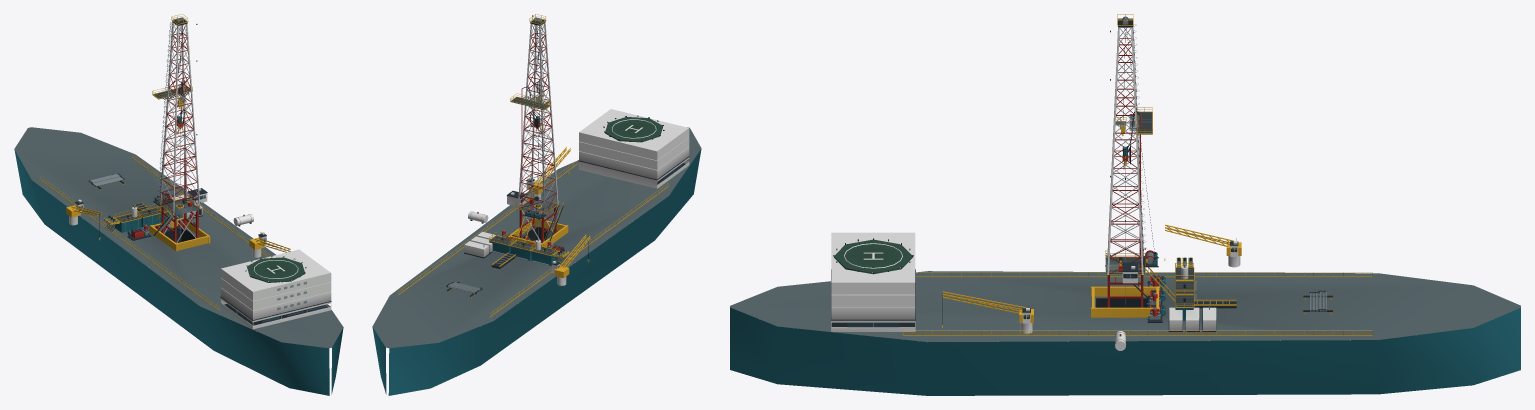
Rendered from drillship_lodm.glb.
3 views of the same model, side by side, from view 1: azimuth 30°, elevation 25°; view 2: azimuth 150°, elevation 25°; view 3: azimuth 270°, elevation 25° (orthographic). The views are drawn at different scales.
Parts seen in each view (by area): view 1: hull_surface_deck, hull_surface_blue, accommodation_surface_white, derrick_surface_white, derrick_surface_red, helideck_surface_green, deck_handrails_surface_yellow, moonpool_surface_yellow, accommodation_surface_dark, mud_tanks_surface_blue, accommodation_surface_glass, ladder_surface_steel (+5 smaller); view 2: hull_surface_deck, hull_surface_blue, accommodation_surface_white, derrick_surface_white, derrick_surface_red, helideck_surface_green, deck_handrails_surface_yellow, mud_tanks_surface_blue, moonpool_surface_yellow, generators_surface_white, ladder_surface_steel, mud_tanks_surface_yellow (+4 smaller); view 3: hull_surface_blue, hull_surface_deck, accommodation_surface_white, deck_handrails_surface_yellow, derrick_surface_white, helideck_surface_green, moonpool_surface_yellow, derrick_surface_red, generators_surface_white, accommodation_surface_dark, deck_crane_1_surface_yellow.
Boxes of the visible parts, left/top/right/bottom form: hull_surface_deck: left=14, top=127, right=343, bottom=348; hull_surface_blue: left=14, top=149, right=343, bottom=395; accommodation_surface_white: left=220, top=249, right=331, bottom=329; derrick_surface_white: left=159, top=22, right=200, bottom=215; derrick_surface_red: left=161, top=24, right=198, bottom=213; helideck_surface_green: left=247, top=257, right=305, bottom=282; deck_handrails_surface_yellow: left=40, top=154, right=270, bottom=310; moonpool_surface_yellow: left=149, top=217, right=210, bottom=251; accommodation_surface_dark: left=220, top=296, right=331, bottom=325; mud_tanks_surface_blue: left=115, top=209, right=179, bottom=232; accommodation_surface_glass: left=227, top=281, right=325, bottom=322; ladder_surface_steel: left=157, top=22, right=172, bottom=205; hull_surface_deck: left=372, top=127, right=701, bottom=348; hull_surface_blue: left=372, top=149, right=701, bottom=395; accommodation_surface_white: left=578, top=109, right=689, bottom=188; derrick_surface_white: left=517, top=22, right=558, bottom=214; derrick_surface_red: left=519, top=24, right=557, bottom=213; helideck_surface_green: left=605, top=117, right=662, bottom=142; deck_handrails_surface_yellow: left=398, top=161, right=668, bottom=317; mud_tanks_surface_blue: left=489, top=241, right=557, bottom=265; moonpool_surface_yellow: left=508, top=218, right=568, bottom=247; generators_surface_white: left=464, top=231, right=501, bottom=257; ladder_surface_steel: left=539, top=26, right=546, bottom=215; mud_tanks_surface_yellow: left=489, top=232, right=558, bottom=255; hull_surface_blue: left=730, top=307, right=1520, bottom=395; hull_surface_deck: left=730, top=271, right=1520, bottom=341; accommodation_surface_white: left=831, top=232, right=915, bottom=331; deck_handrails_surface_yellow: left=903, top=272, right=1372, bottom=335; derrick_surface_white: left=1107, top=27, right=1143, bottom=274; helideck_surface_green: left=834, top=239, right=912, bottom=274; moonpool_surface_yellow: left=1091, top=286, right=1159, bottom=317; derrick_surface_red: left=1108, top=27, right=1142, bottom=273; generators_surface_white: left=1169, top=307, right=1216, bottom=330; accommodation_surface_dark: left=831, top=269, right=915, bottom=326; deck_crane_1_surface_yellow: left=942, top=291, right=1033, bottom=327.
Size of the model in its own units: 42.9 by 78.58 by 160.
